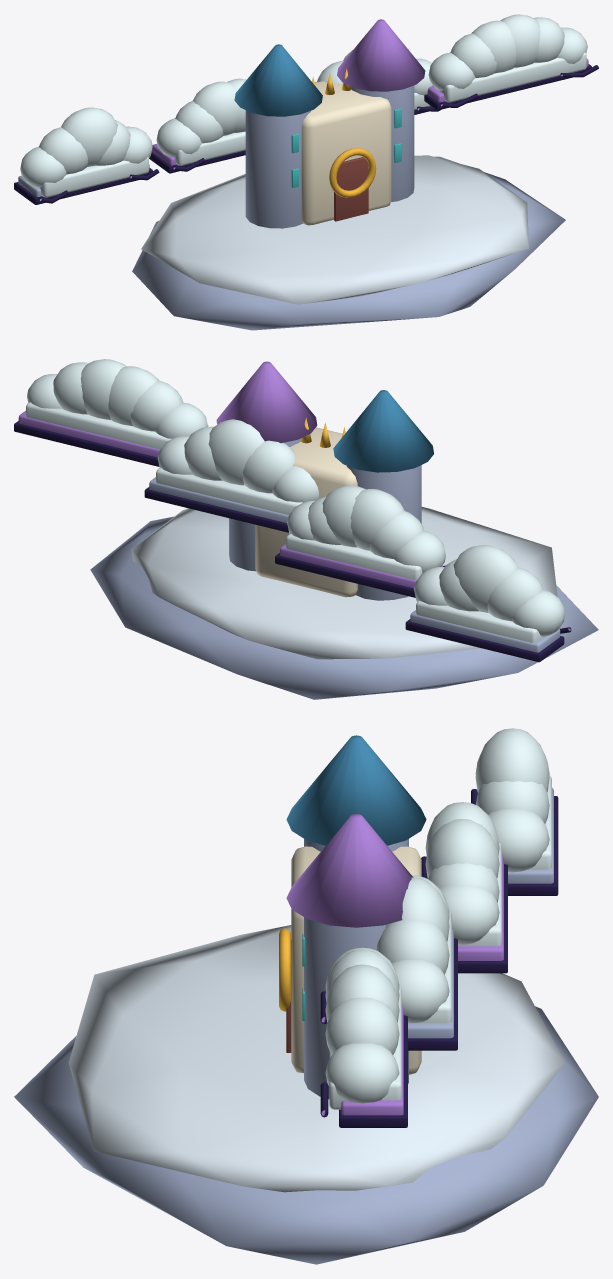
The model's file is r014_sky_lagoon_world_composition_sky_world.glb.
3 views of the same model, one above another, from view 1: azimuth 30°, elevation 25°; view 2: azimuth 150°, elevation 25°; view 3: azimuth 270°, elevation 25° (orthographic). The views are drawn at different scales.
Parts seen in each view (by area): view 1: r014_sky_lagoon_world_composition_sky_world.001; view 2: r014_sky_lagoon_world_composition_sky_world.001; view 3: r014_sky_lagoon_world_composition_sky_world.001.
Boxes of the visible parts, x1=… form: r014_sky_lagoon_world_composition_sky_world.001: x1=14, y1=14, x2=598, y2=330; r014_sky_lagoon_world_composition_sky_world.001: x1=14, y1=359, x2=598, y2=699; r014_sky_lagoon_world_composition_sky_world.001: x1=14, y1=728, x2=598, y2=1264.
Size of the model in its own units: 18.67 by 8.21 by 11.69.
